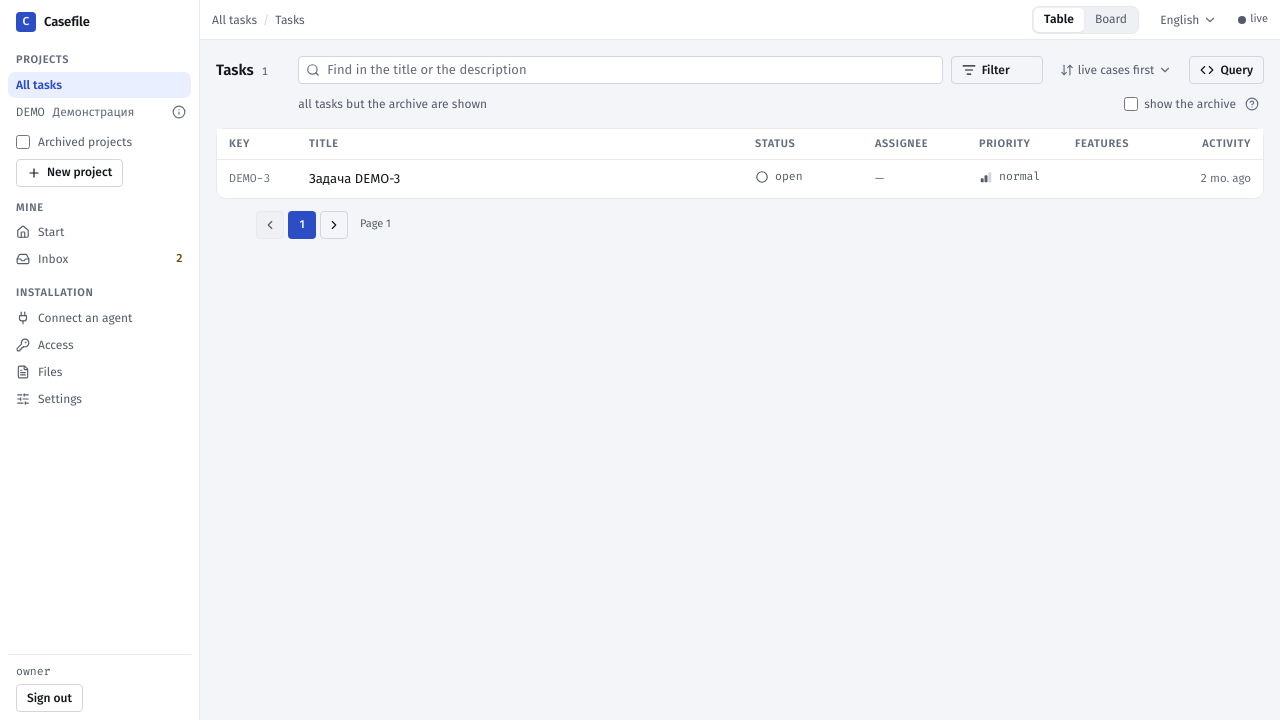
Test: порядок и страницы › без общего числа номеров нет, но «дальше» остаётся честным
Check: the column heading "DEMO-3" is shown, box [217, 160, 297, 198]
What coordinates should you click on to do the following:
click the link named "Next page"
I would click on:
 (334, 224)
Its box is [320, 210, 348, 238].
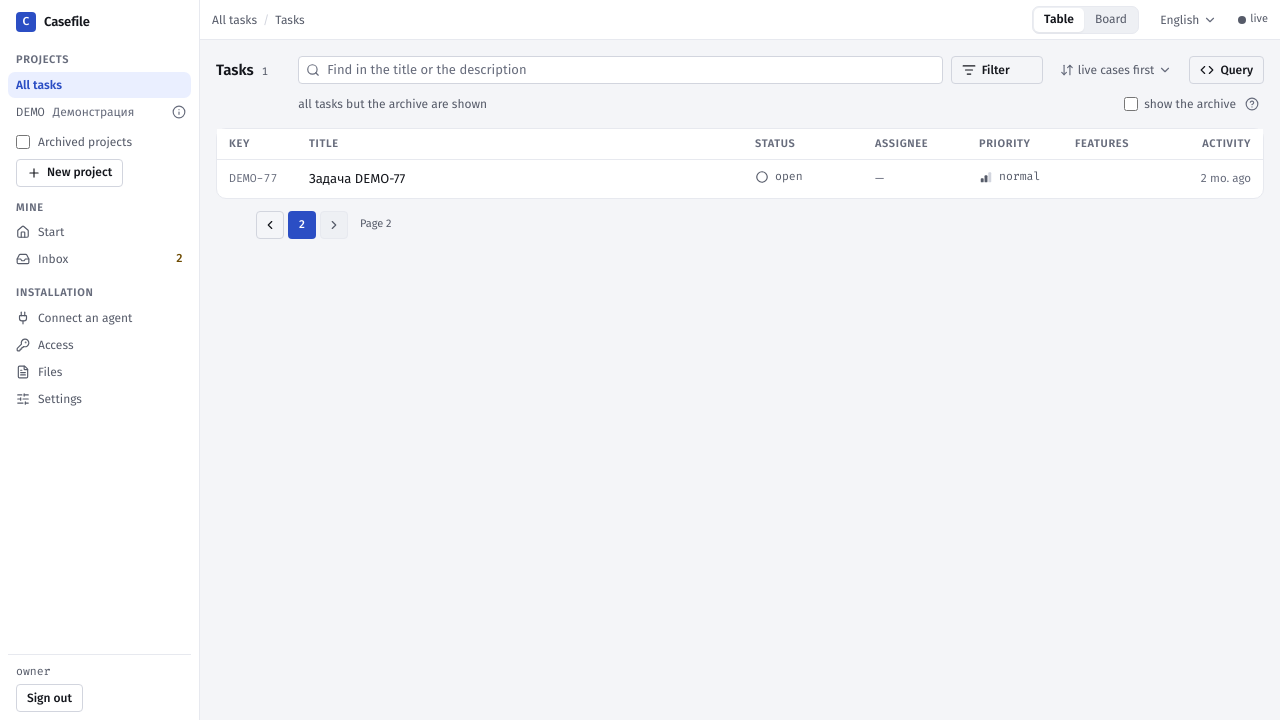
Check: the column heading "DEMO-77" is shown, box [217, 160, 297, 198]
